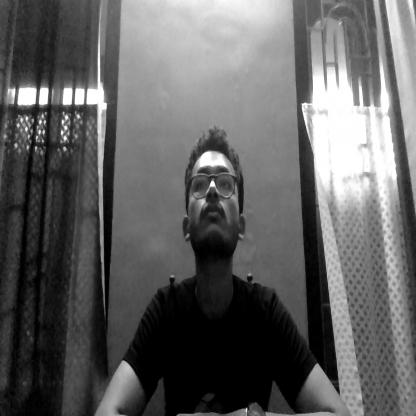Distracted: (175, 126, 250, 266)
